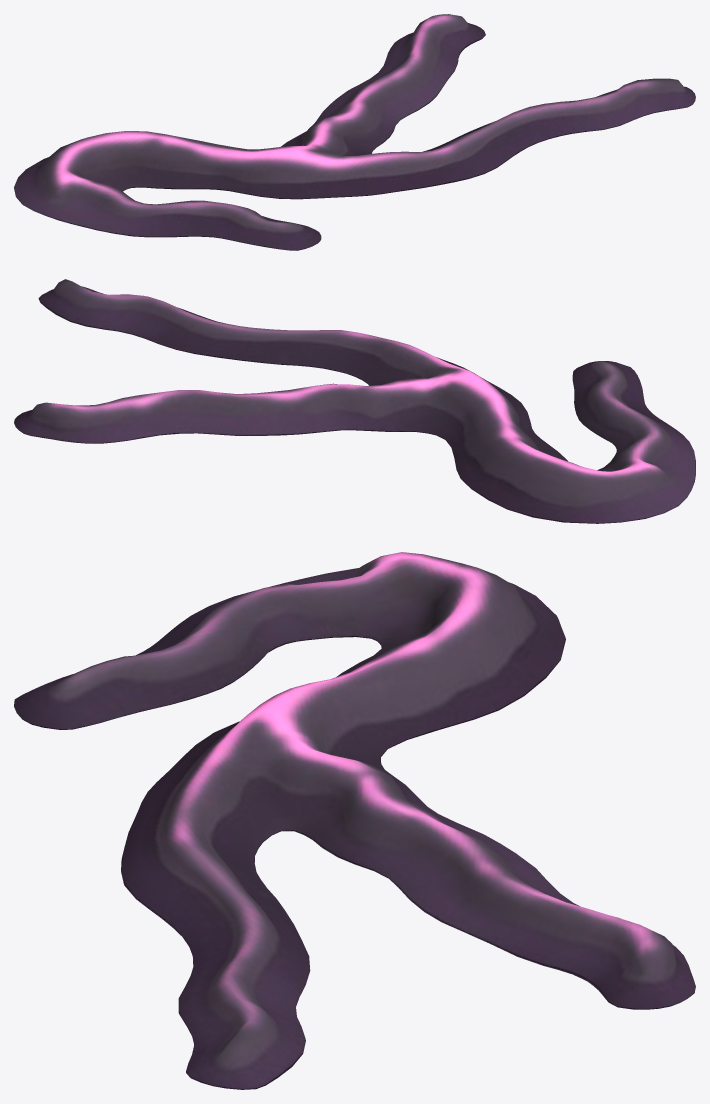
The model's file is caos_sts_chaosgrowth_02c_chaos_v36.glb.
3 views of the same model, one above another, from view 1: azimuth 30°, elevation 25°; view 2: azimuth 150°, elevation 25°; view 3: azimuth 270°, elevation 25° (orthographic). The views are drawn at different scales.
Visible parts, largest first — view 1: caos_sts_chaosgrowth_02c; view 2: caos_sts_chaosgrowth_02c; view 3: caos_sts_chaosgrowth_02c.
Boxes of the visible parts, bbox=[...] form: caos_sts_chaosgrowth_02c: bbox=[14, 14, 695, 250]; caos_sts_chaosgrowth_02c: bbox=[14, 279, 695, 523]; caos_sts_chaosgrowth_02c: bbox=[14, 552, 695, 1089].
Size of the model in its own units: 18.58 by 0.9109 by 10.21.
Materials: 1 (1 with a texture image).
